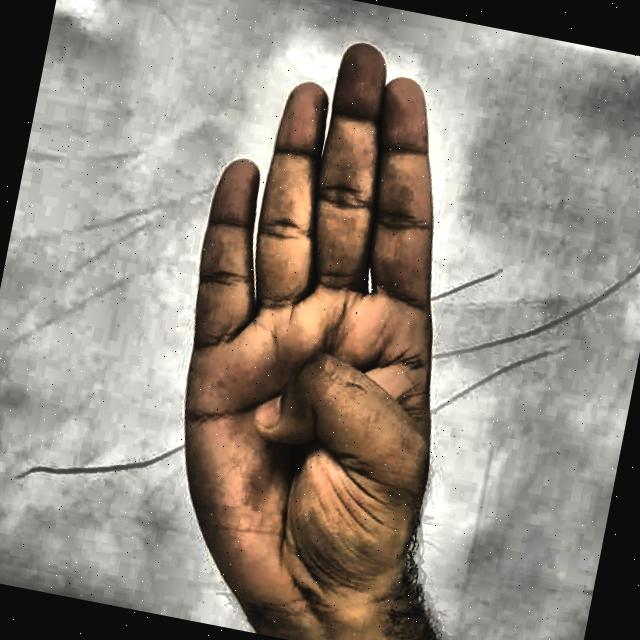Ba: (104, 0, 548, 640)
